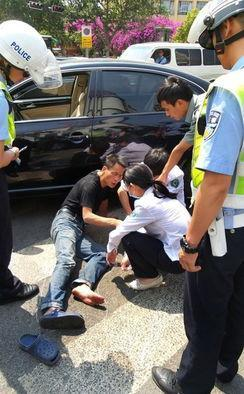Fall-Detected: (23, 148, 135, 338)
